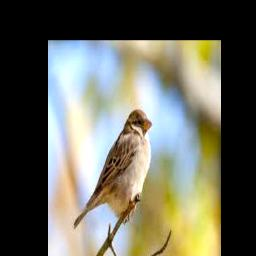Sparrow: (74, 108, 153, 231)
